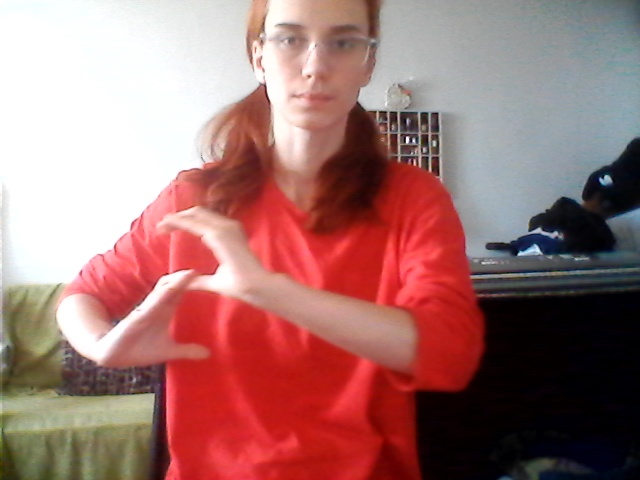s: (110, 197, 267, 397)
